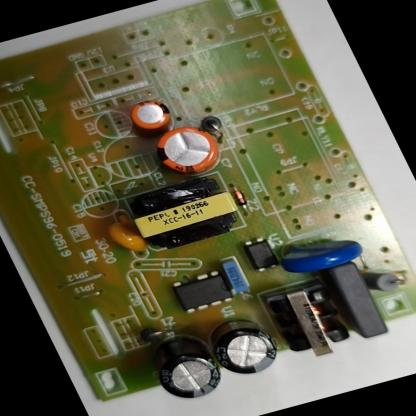Cap1: (138, 114, 239, 186)
Cap2: (115, 87, 187, 140)
Cap3: (198, 305, 292, 384)
Cap4: (133, 316, 235, 408)
MOSFET: (166, 265, 244, 317)
Mov: (269, 223, 375, 282)
Resistor: (356, 258, 414, 300)
Transformer: (110, 168, 252, 258), (257, 272, 364, 366)
